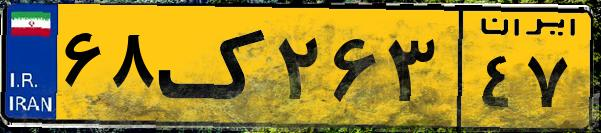2: (270, 28, 330, 110)
3: (385, 28, 445, 110)
4: (475, 38, 525, 113)
6: (330, 28, 385, 110), (57, 26, 110, 100)
7: (525, 38, 570, 115)
8: (110, 28, 158, 98)
ک: (158, 12, 270, 120)
